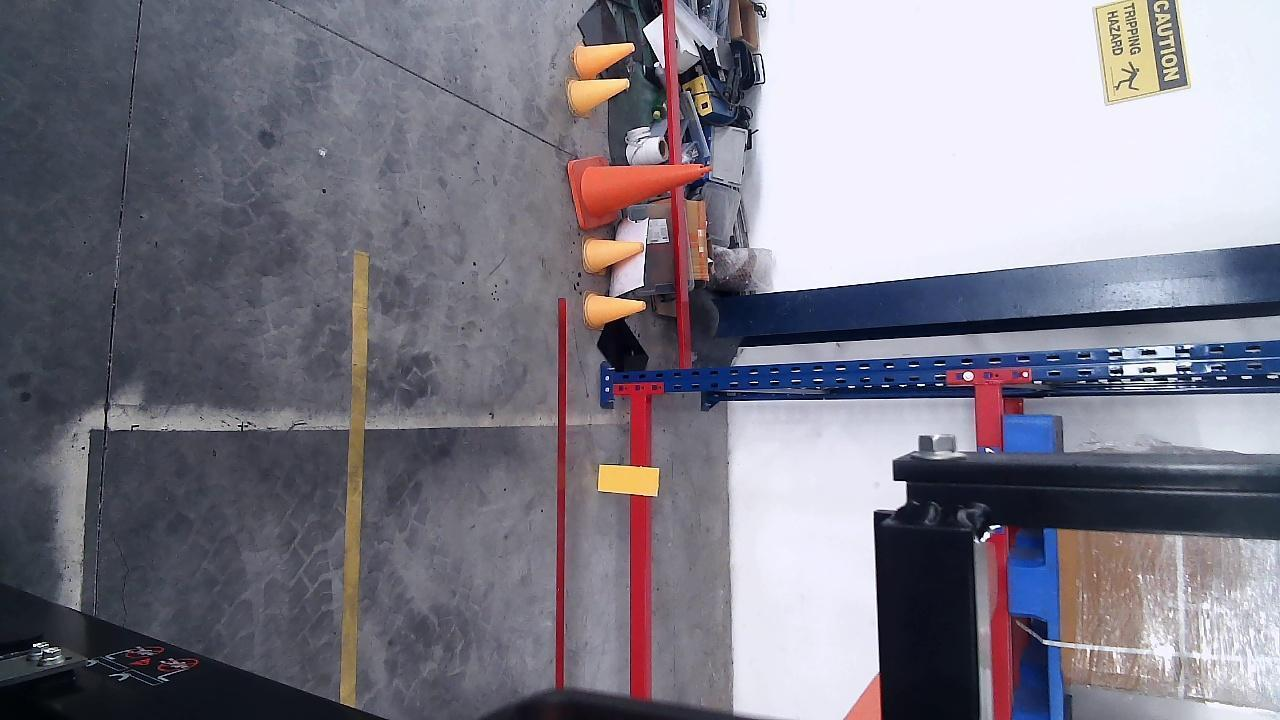red_line: (556, 297, 568, 684)
yellow_line: (342, 249, 369, 706)
